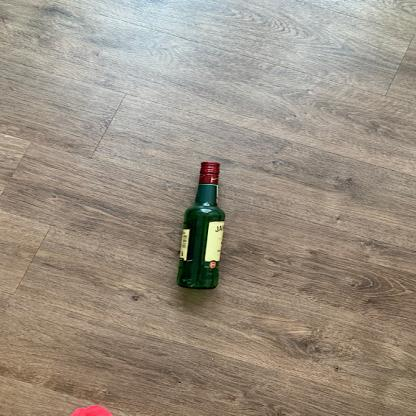trash: (172, 159, 236, 292)
